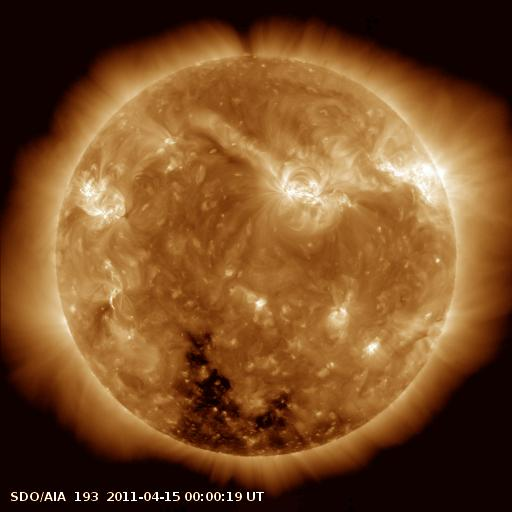coronal_hole: (167, 333, 357, 456)
